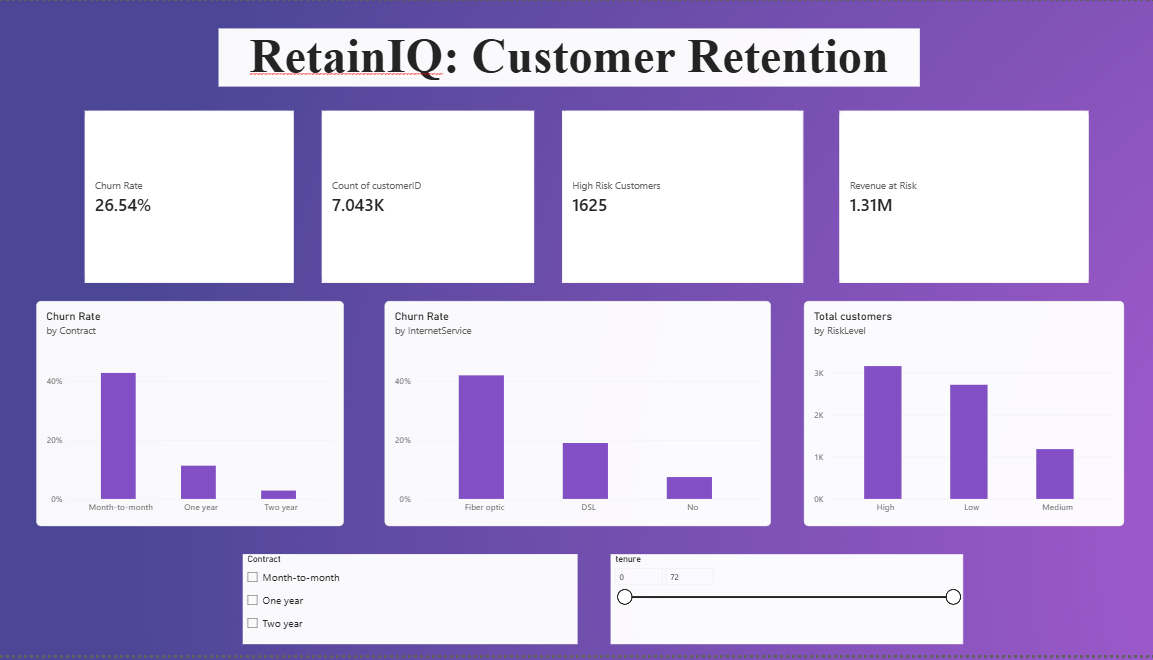

What the dashboard file says about the page in this screenshot:
{"tool":"powerbi","page":{"name":"Page 1","canvas":[1920,1080],"ordinal":0},"visuals":[{"type":"cardVisual","fields":{"Data":["Count(customers_scored.customerID)"]},"box":[401.4,148.9,350.9,284.5],"z":0},{"type":"cardVisual","fields":{"Data":["customers_scored.Churn Rate"]},"box":[26.6,140.9,329.7,268.5],"z":1000},{"type":"cardVisual","fields":{"Data":["customers_scored.High Risk Customers"]},"box":[874.6,151.5,398.8,284.5],"z":2000},{"type":"cardVisual","fields":{"Data":["customers_scored.Revenue at Risk"]},"box":[1385.1,148.9,412.1,284.5],"z":2001},{"type":"clusteredColumnChart","fields":{"Category":["customers_scored.Contract"],"Y":["customers_scored.Churn Rate"]},"box":[95,520,415,300],"z":2002},{"type":"clusteredColumnChart","fields":{"Category":["customers_scored.InternetService"],"Y":["customers_scored.Churn Rate"]},"box":[637.5,505,372.5,370],"z":2003},{"type":"clusteredColumnChart","fields":{"Category":["customers_scored.RiskLevel"],"Y":["CountNonNull(customers_scored.customerID)"]},"box":[1080,520,390,355],"z":2004},{"type":"slicer","fields":{"Values":["customers_scored.Contract"]},"box":[415,910,322.5,160],"z":2005},{"type":"slicer","fields":{"Values":["customers_scored.tenure"]},"box":[822.5,910,277.5,137.5],"z":2006}]}

Visuals, with their boxes in screenshot pixels (x1, y1, x2, y2), scaled from the page's 1920x1080 canvas onto the 1153x660 screenshot:
cardVisual - Count(customers_scored.customerID): rect(241, 91, 452, 265)
cardVisual - customers_scored.Churn Rate: rect(16, 86, 214, 250)
cardVisual - customers_scored.High Risk Customers: rect(525, 93, 765, 266)
cardVisual - customers_scored.Revenue at Risk: rect(832, 91, 1079, 265)
clusteredColumnChart - customers_scored.Contract x customers_scored.Churn Rate: rect(57, 318, 306, 501)
clusteredColumnChart - customers_scored.InternetService x customers_scored.Churn Rate: rect(383, 309, 607, 535)
clusteredColumnChart - customers_scored.RiskLevel x CountNonNull(customers_scored.customerID): rect(649, 318, 883, 535)
slicer - customers_scored.Contract: rect(249, 556, 443, 654)
slicer - customers_scored.tenure: rect(494, 556, 661, 640)
